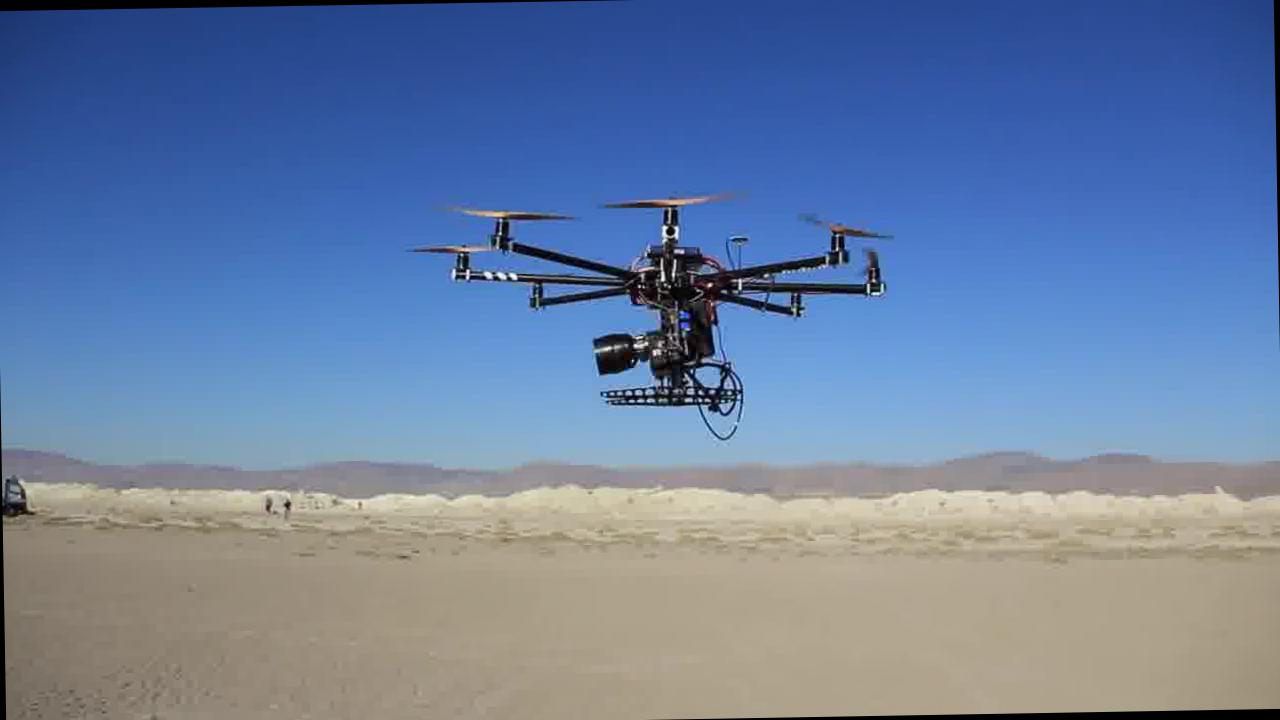drone: (429, 184, 894, 416)
